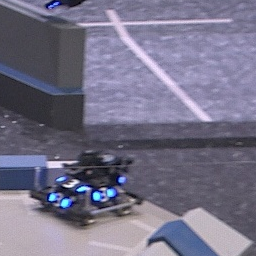Blue: (56, 175, 86, 193), (90, 187, 117, 202), (48, 191, 70, 208)
Robot: (30, 149, 142, 226)
